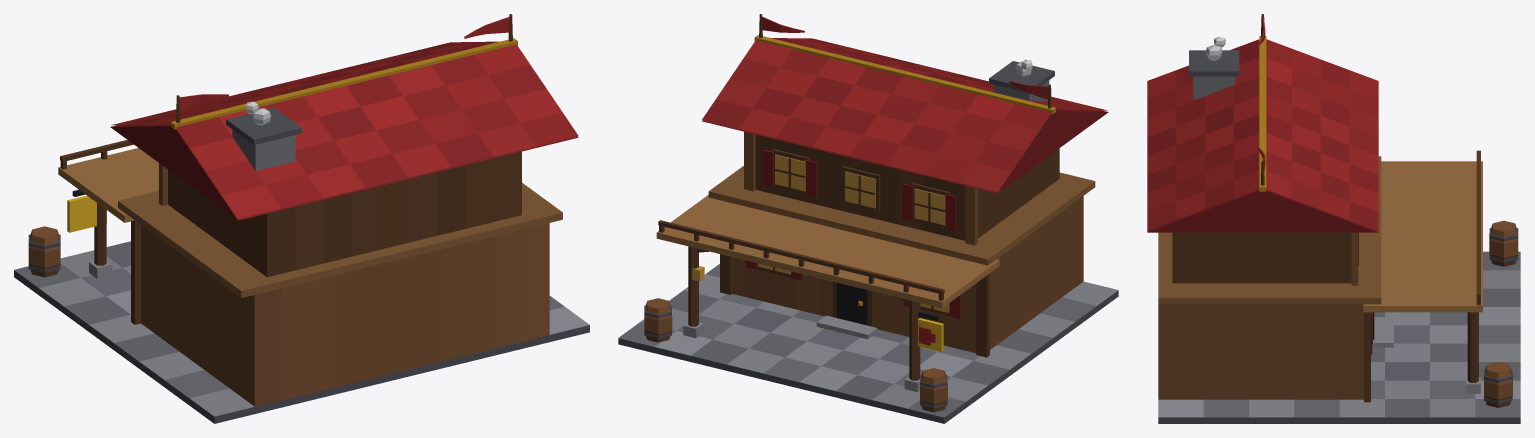
File: Decor_PirateShip_Tavern.fbx
The picture shows the model from 3 angles, left to right: view 1: azimuth 30°, elevation 25°; view 2: azimuth 150°, elevation 25°; view 3: azimuth 270°, elevation 25°; orthographic projection. The views are drawn at different scales.
Parts seen in each view (by area): view 1: Tavern_Body; view 2: Tavern_Body; view 3: Tavern_Body.
Part boxes in pixels (bbox=[...]): Tavern_Body: bbox=[14, 14, 589, 423]; Tavern_Body: bbox=[618, 14, 1118, 423]; Tavern_Body: bbox=[1147, 14, 1520, 423].
Size of the model in its own units: 28 by 20 by 26.7.
